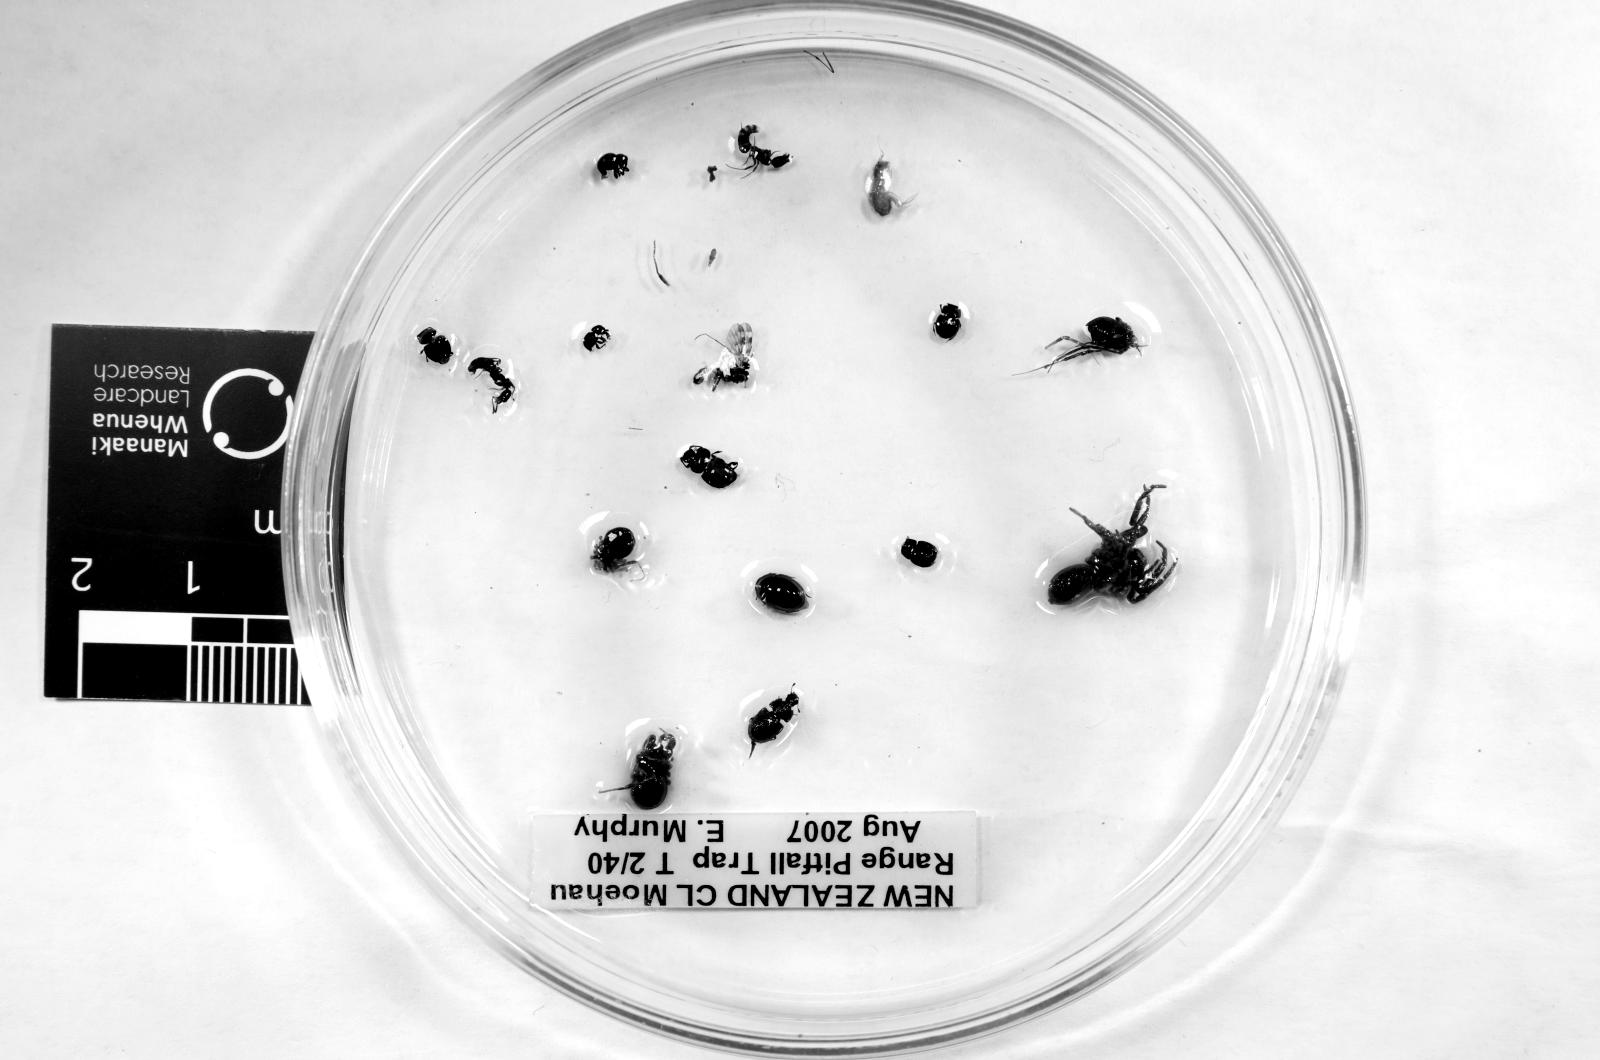amphipoda: (867, 153, 916, 218)
araneae: (1048, 484, 1177, 606)
coleoptera: (747, 692, 799, 754), (680, 445, 738, 489), (753, 571, 811, 615), (416, 327, 454, 364), (899, 537, 939, 569), (933, 303, 963, 341), (596, 153, 630, 180), (583, 324, 610, 351)
diptera: (693, 323, 754, 390)
formicidae: (736, 124, 791, 172), (468, 357, 516, 413)
opiliones: (1043, 316, 1141, 369), (622, 729, 676, 809), (590, 526, 641, 575)
